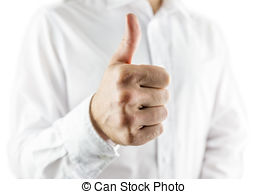thumbsup: (98, 12, 172, 148)
